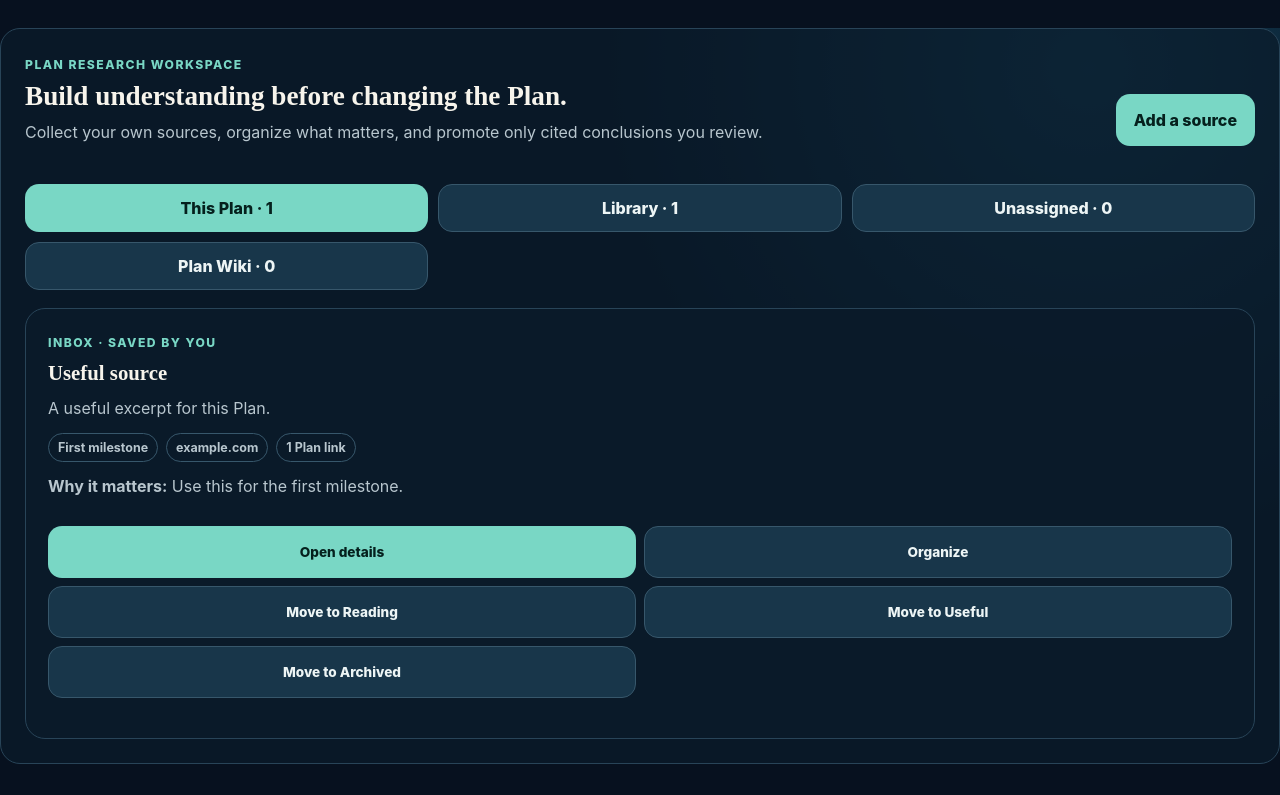
Test: PlanResearchSourcesSection › reviews workflow movement before changing durable organization
Click the button "Move to Useful" at (938, 612), box [644, 586, 1232, 638]
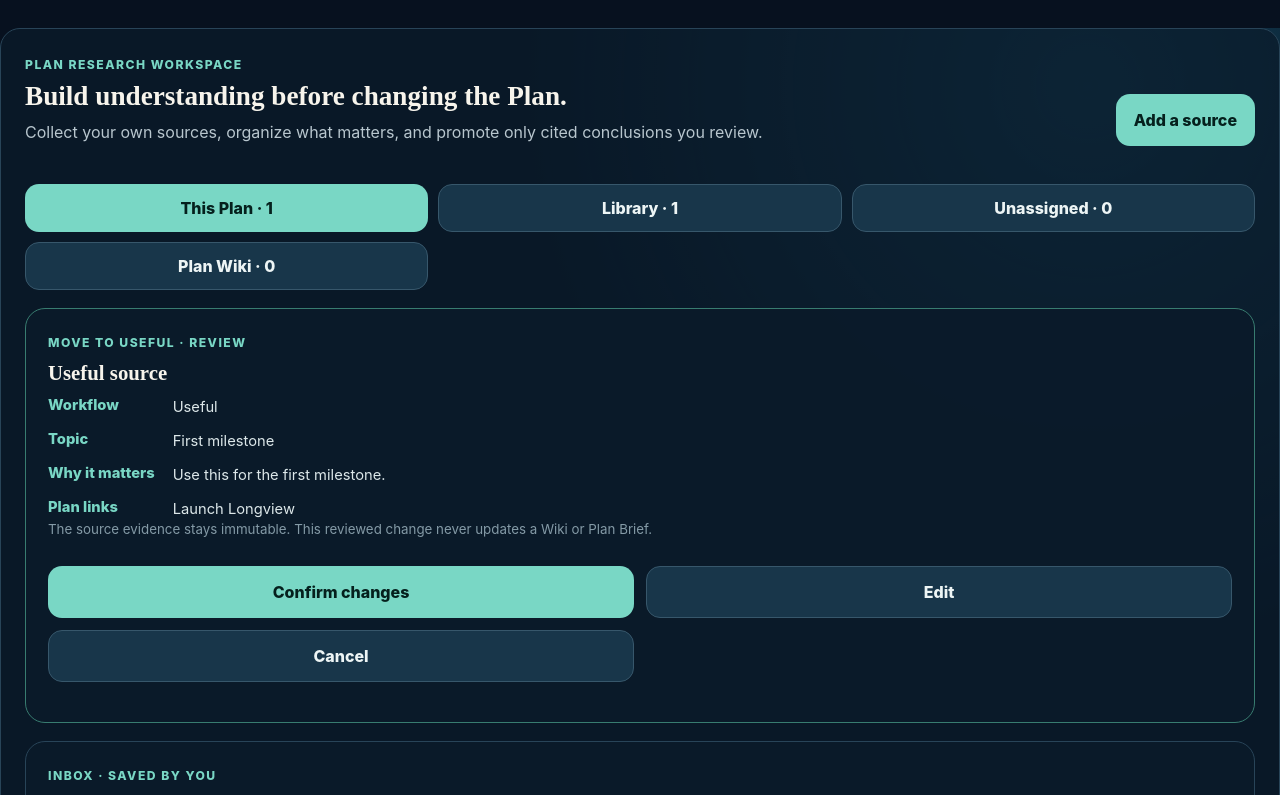
Result: the text "Useful" is shown at [173, 398, 218, 416]
Click the button "Confirm changes" at (341, 592), box [48, 566, 634, 618]
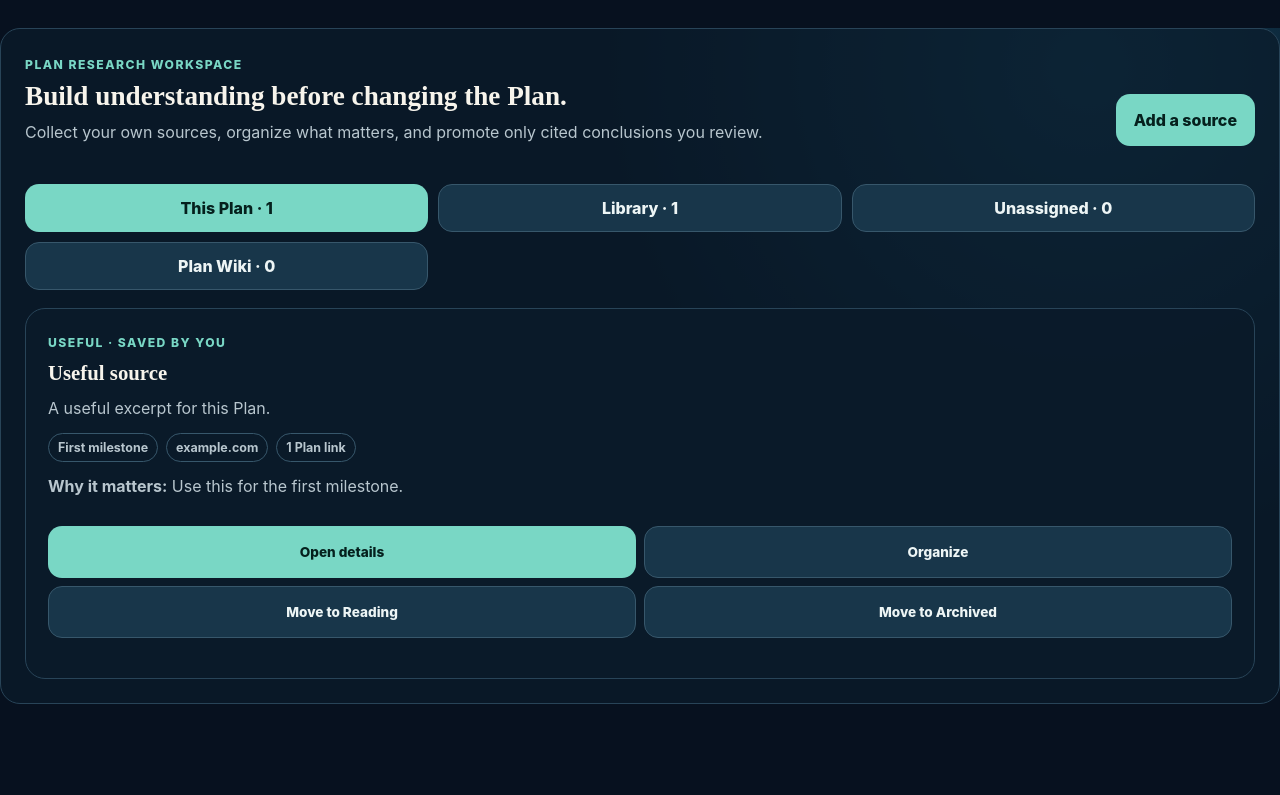
Result: the text "Useful · saved by you" is shown at [48, 335, 226, 350]
